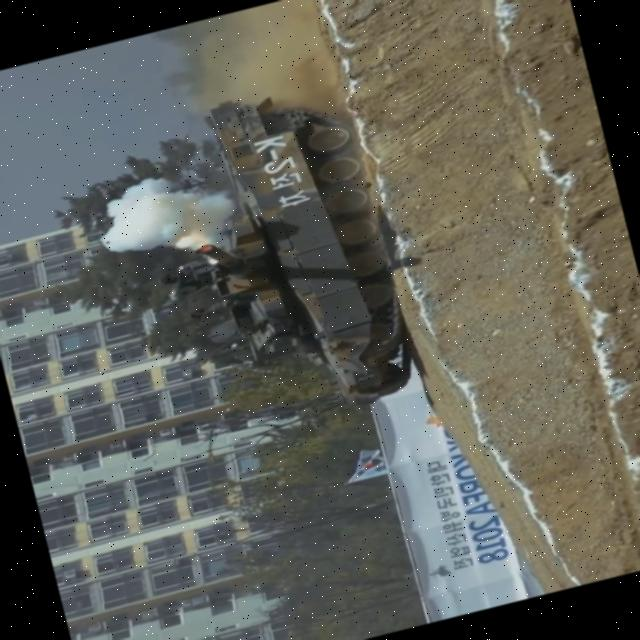korea tank: (116, 69, 426, 449)
